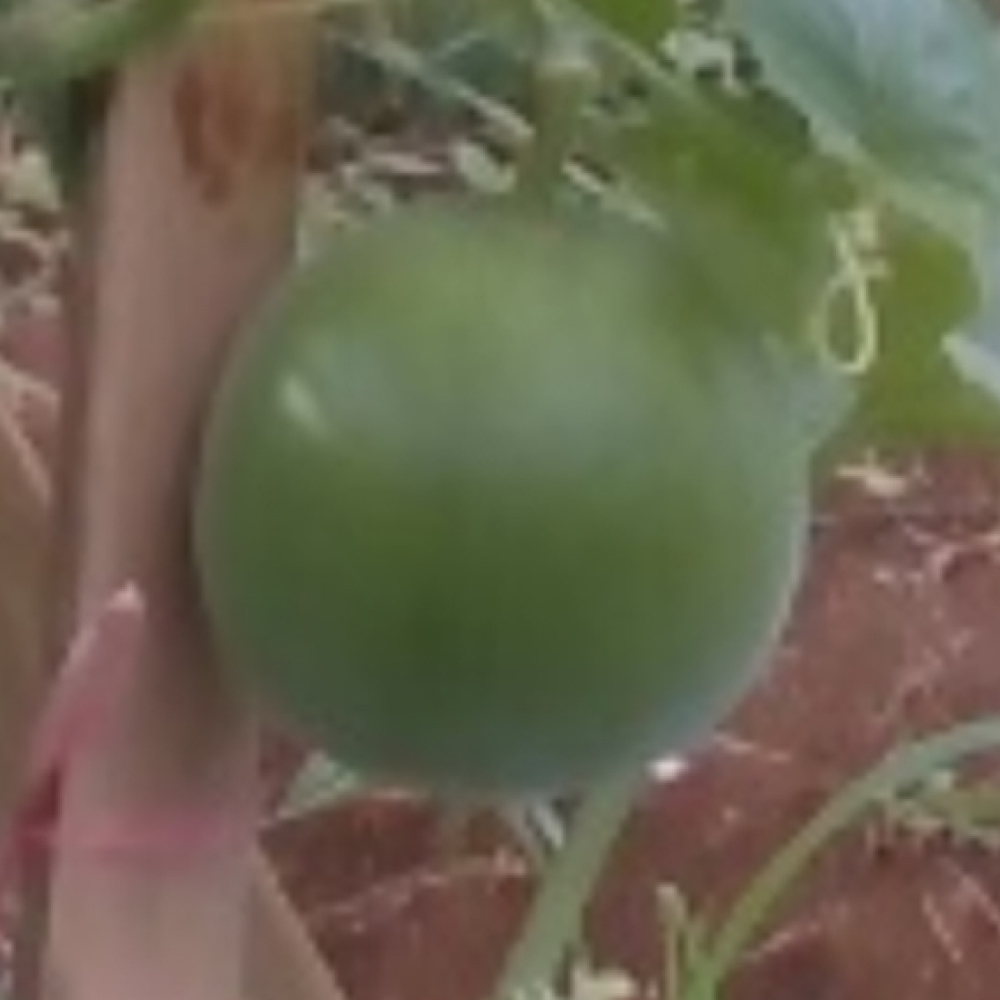melon: (184, 185, 816, 802)
